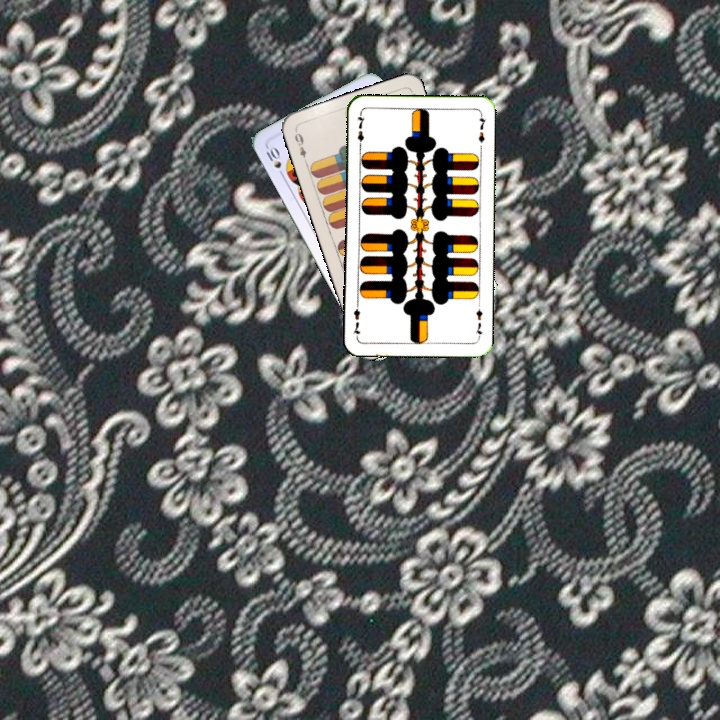E7: (353, 110, 367, 151), (471, 305, 485, 341)
E9: (290, 126, 309, 160)
S10: (262, 142, 287, 181)
